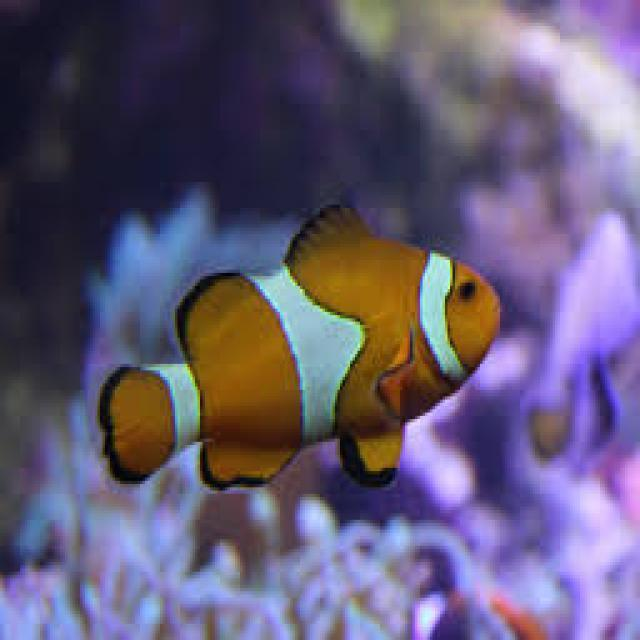ClownFish: (102, 196, 507, 493)
